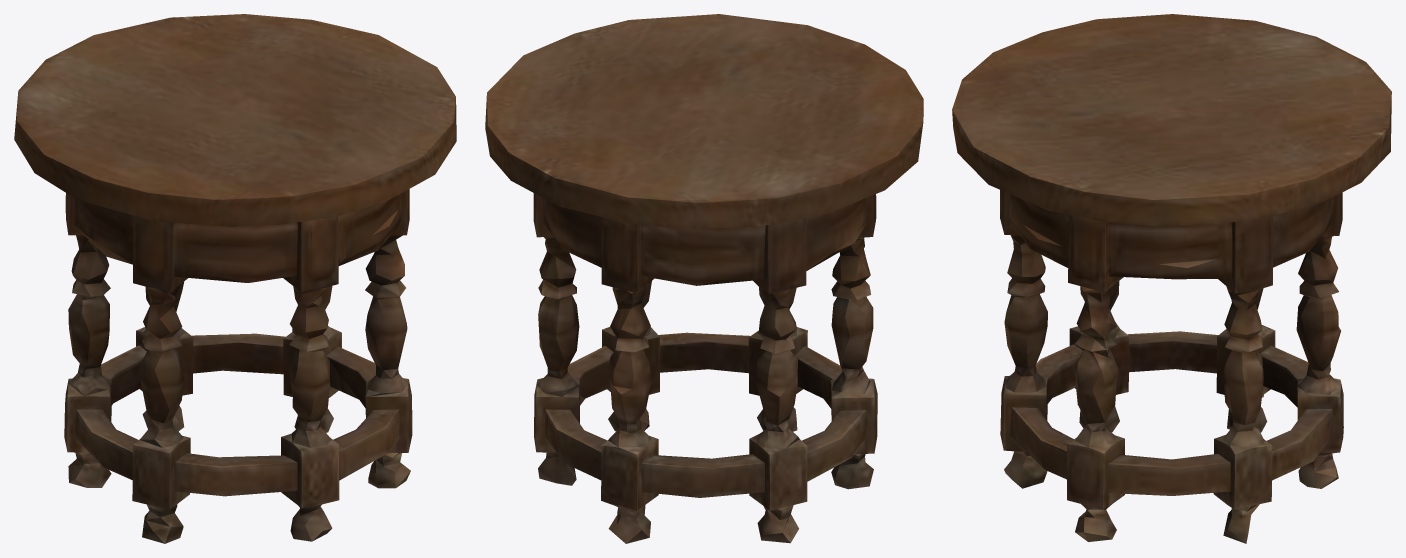
The model's file is table-round-dining.lod1.glb.
3 renders of one model, left to right at view 1: azimuth 30°, elevation 25°; view 2: azimuth 150°, elevation 25°; view 3: azimuth 270°, elevation 25°, orthographic.
Parts seen in each view (by area): view 1: table-round-dining; view 2: table-round-dining; view 3: table-round-dining.
Part boxes in pixels (x1,y1,x2,y2): table-round-dining: (14,14,456,543); table-round-dining: (485,14,923,543); table-round-dining: (952,14,1391,543).
Bounding box in the file's own units: 0.7878 × 0.7389 × 0.7834.
Materials: 1 (1 with a texture image).
